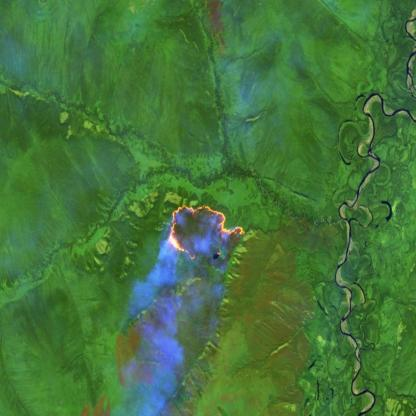fire: (166, 204, 250, 262)
